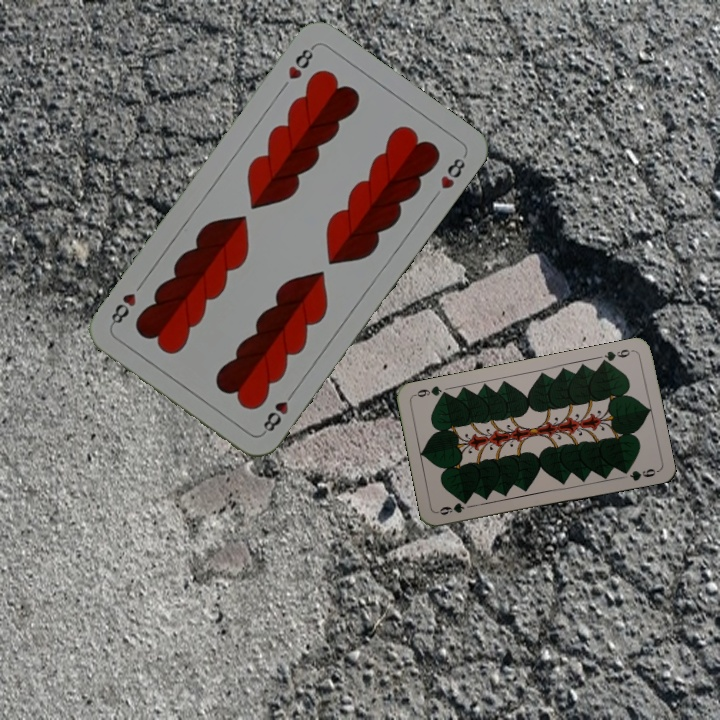G9: (597, 345, 636, 367), (434, 499, 467, 518)
H8: (258, 386, 298, 437), (284, 42, 318, 82)
